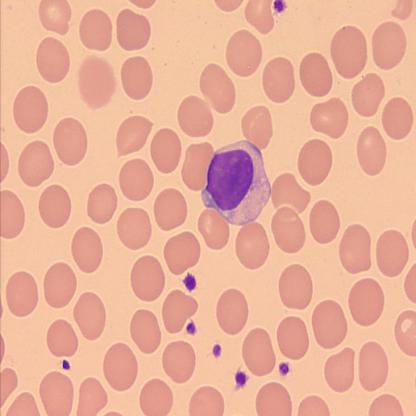Atypical lymphocyte: (202, 137, 273, 224)
